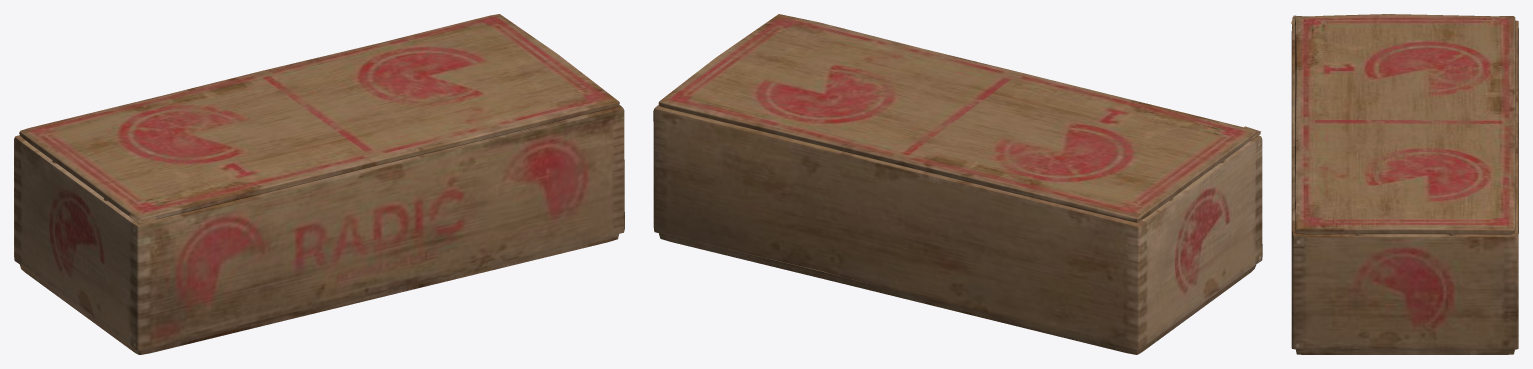
The model's file is cheese_box.glb.
The picture shows the model from 3 angles, left to right: view 1: azimuth 30°, elevation 25°; view 2: azimuth 150°, elevation 25°; view 3: azimuth 270°, elevation 25°; orthographic projection. The views are drawn at different scales.
Visible parts, largest first — view 1: CheeseBox_01; view 2: CheeseBox_01; view 3: CheeseBox_01.
Boxes of the visible parts, x1,y1,x2,y2 form: CheeseBox_01: (14,14,624,354); CheeseBox_01: (653,14,1262,354); CheeseBox_01: (1291,14,1518,354).
Size of the model in its own units: 0.2404 by 0.066 by 0.1066.
Materials: 1 (1 with a texture image).
